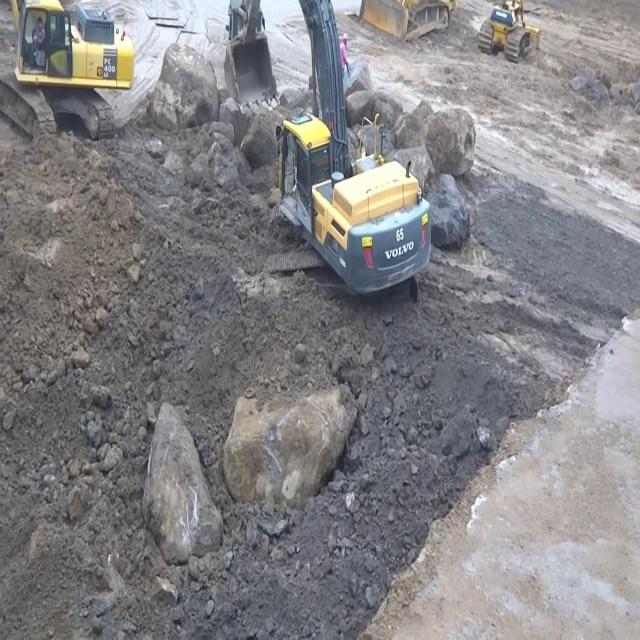Excavator: (222, 0, 432, 308), (0, 0, 134, 141)
Loader: (476, 0, 542, 62)
